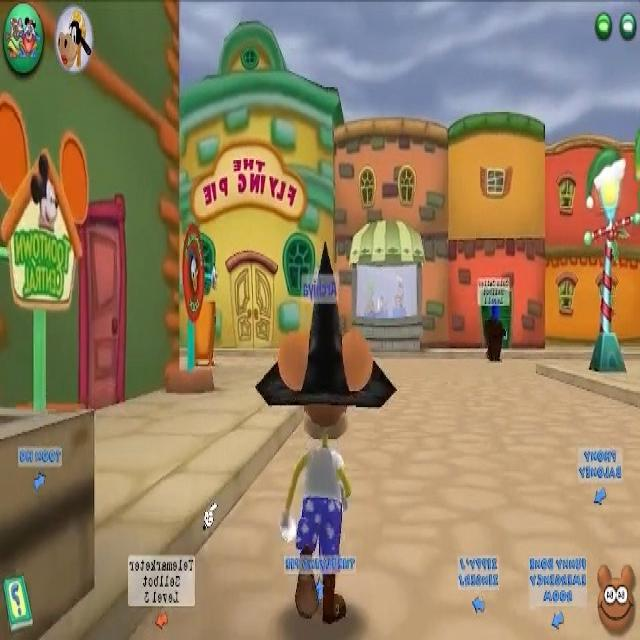coldcaller: (478, 276, 513, 362)
